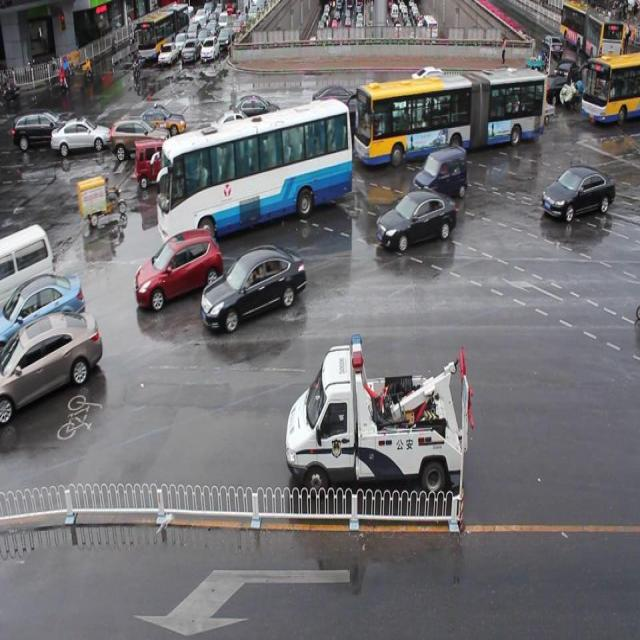bus: (286, 333, 474, 494)
car: (1, 316, 102, 421), (201, 244, 304, 332), (1, 274, 86, 354), (136, 232, 223, 306), (376, 193, 456, 250), (541, 170, 614, 214), (414, 148, 467, 198), (110, 116, 171, 159), (312, 100, 368, 142), (134, 138, 178, 188), (52, 119, 113, 154), (15, 112, 70, 150), (218, 120, 267, 160), (209, 107, 255, 145), (312, 85, 364, 118), (298, 100, 342, 135), (410, 64, 454, 96), (232, 96, 282, 124), (492, 82, 528, 120), (398, 83, 441, 114), (501, 66, 537, 101), (141, 105, 186, 132), (534, 72, 570, 105), (425, 74, 457, 109), (553, 61, 579, 86)
truck: (0, 224, 54, 327)
van: (160, 108, 350, 236), (355, 69, 546, 163)
